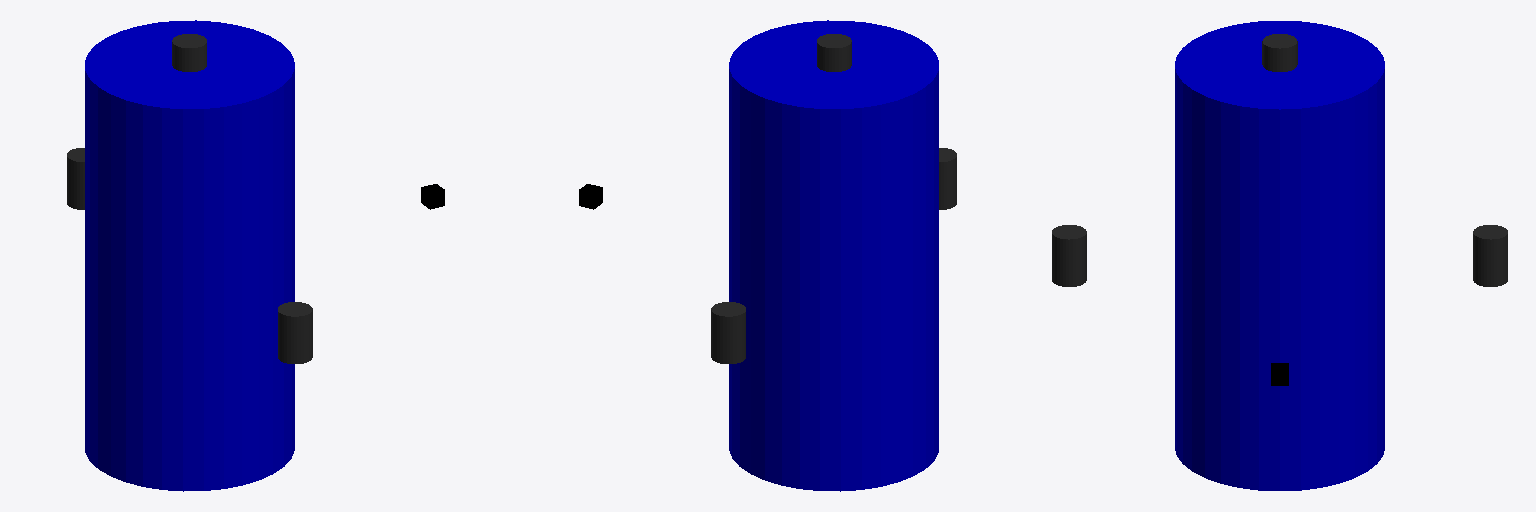
robot.urdf — auv:
<?xml version="1.0" ?>
<!-- =================================================================================== -->
<!-- |    This document was autogenerated by xacro from src/auv_sim/urdf/auv.urdf.xacro | -->
<!-- |    EDITING THIS FILE BY HAND IS NOT RECOMMENDED                                 | -->
<!-- =================================================================================== -->
<robot name="auv">
  <!-- =============
       Base link (hull)
       ============= -->
  <link name="base_link">
    <visual>
      <origin rpy="0 0 0" xyz="0 0 0"/>
      <geometry>
        <cylinder length="1.2" radius="0.3"/>
      </geometry>
      <material name="blue">
        <color rgba="0.0 0.0 0.8 1.0"/>
      </material>
    </visual>
    <collision>
      <origin rpy="0 0 0" xyz="0 0 0"/>
      <geometry>
        <cylinder length="1.2" radius="0.3"/>
      </geometry>
    </collision>
    <!-- Ix = Iy = (1/12)*m*(3r^2 + L^2), Iz = (1/2)*m*r^2 -->
    <inertial>
      <mass value="25.0"/>
      <origin rpy="0 0 0" xyz="0 0 0"/>
      <inertia ixx="3.5624999999999996" ixy="0.0" ixz="0.0" iyy="3.5624999999999996" iyz="0.0" izz="1.125"/>
    </inertial>
  </link>
  <!-- =======
       IMU link
       ======= -->
  <link name="imu_link">
    <visual>
      <origin rpy="0 0 0" xyz="0.0 0.0 0.1"/>
      <geometry>
        <box size="0.05 0.05 0.05"/>
      </geometry>
      <material name="gray">
        <color rgba="0.5 0.5 0.5 1.0"/>
      </material>
    </visual>
    <collision>
      <origin rpy="0 0 0" xyz="0.0 0.0 0.1"/>
      <geometry>
        <box size="0.05 0.05 0.05"/>
      </geometry>
    </collision>
    <inertial>
      <mass value="0.1"/>
      <origin rpy="0 0 0" xyz="0 0 0.1"/>
      <inertia ixx="1e-4" ixy="0" ixz="0" iyy="1e-4" iyz="0" izz="1e-4"/>
    </inertial>
  </link>
  <joint name="imu_joint" type="fixed">
    <parent link="base_link"/>
    <child link="imu_link"/>
    <origin rpy="0 0 0" xyz="0 0 0.1"/>
  </joint>
  <!-- ========
       Camera link
       ======== -->
  <link name="camera_link">
    <visual>
      <origin rpy="0 0 0" xyz="0.4 0 0.0"/>
      <geometry>
        <box size="0.05 0.05 0.05"/>
      </geometry>
      <material name="black">
        <color rgba="0.0 0.0 0.0 1.0"/>
      </material>
    </visual>
    <collision>
      <origin rpy="0 0 0" xyz="0.4 0 0.0"/>
      <geometry>
        <box size="0.05 0.05 0.05"/>
      </geometry>
    </collision>
    <inertial>
      <mass value="0.1"/>
      <origin rpy="0 0 0" xyz="0.4 0 0"/>
      <inertia ixx="1e-4" ixy="0" ixz="0" iyy="1e-4" iyz="0" izz="1e-4"/>
    </inertial>
  </link>
  <joint name="camera_joint" type="fixed">
    <parent link="base_link"/>
    <child link="camera_link"/>
    <origin rpy="0 0 0" xyz="0.4 0 0.0"/>
  </joint>
  <!-- =========
       Depth sensor (downward)
       ========= -->
  <link name="depth_link">
    <visual>
      <origin rpy="0 0 0" xyz="0 0 -0.2"/>
      <geometry>
        <box size="0.05 0.05 0.05"/>
      </geometry>
      <material name="green">
        <color rgba="0.0 0.6 0.0 1.0"/>
      </material>
    </visual>
    <collision>
      <origin rpy="0 0 0" xyz="0 0 -0.2"/>
      <geometry>
        <box size="0.05 0.05 0.05"/>
      </geometry>
    </collision>
    <inertial>
      <mass value="0.1"/>
      <origin rpy="0 0 0" xyz="0 0 -0.2"/>
      <inertia ixx="1e-4" ixy="0" ixz="0" iyy="1e-4" iyz="0" izz="1e-4"/>
    </inertial>
  </link>
  <joint name="depth_joint" type="fixed">
    <parent link="base_link"/>
    <child link="depth_link"/>
    <origin rpy="0 0 0" xyz="0 0 -0.2"/>
  </joint>
  <link name="thruster_left_link">
    <visual>
      <origin rpy="0 0 0" xyz="0.0  0.3 0.0"/>
      <geometry>
        <cylinder length="0.15" radius="0.05"/>
      </geometry>
      <material name="thruster_color">
        <color rgba="0.2 0.2 0.2 1.0"/>
      </material>
    </visual>
    <collision>
      <origin rpy="0 0 0" xyz="0.0  0.3 0.0"/>
      <geometry>
        <cylinder length="0.15" radius="0.05"/>
      </geometry>
    </collision>
    <inertial>
      <mass value="0.5"/>
      <origin rpy="0 0 0" xyz="0.0  0.3 0.0"/>
      <inertia ixx="1e-3" ixy="0" ixz="0" iyy="1e-3" iyz="0" izz="1e-3"/>
    </inertial>
  </link>
  <link name="thruster_right_link">
    <visual>
      <origin rpy="0 0 0" xyz="0.0 -0.3 0.0"/>
      <geometry>
        <cylinder length="0.15" radius="0.05"/>
      </geometry>
      <material name="thruster_color">
        <color rgba="0.2 0.2 0.2 1.0"/>
      </material>
    </visual>
    <collision>
      <origin rpy="0 0 0" xyz="0.0 -0.3 0.0"/>
      <geometry>
        <cylinder length="0.15" radius="0.05"/>
      </geometry>
    </collision>
    <inertial>
      <mass value="0.5"/>
      <origin rpy="0 0 0" xyz="0.0 -0.3 0.0"/>
      <inertia ixx="1e-3" ixy="0" ixz="0" iyy="1e-3" iyz="0" izz="1e-3"/>
    </inertial>
  </link>
  <link name="thruster_vert_link">
    <visual>
      <origin rpy="0 0 0" xyz="0.0  0.0 0.3"/>
      <geometry>
        <cylinder length="0.15" radius="0.05"/>
      </geometry>
      <material name="thruster_color">
        <color rgba="0.2 0.2 0.2 1.0"/>
      </material>
    </visual>
    <collision>
      <origin rpy="0 0 0" xyz="0.0  0.0 0.3"/>
      <geometry>
        <cylinder length="0.15" radius="0.05"/>
      </geometry>
    </collision>
    <inertial>
      <mass value="0.5"/>
      <origin rpy="0 0 0" xyz="0.0  0.0 0.3"/>
      <inertia ixx="1e-3" ixy="0" ixz="0" iyy="1e-3" iyz="0" izz="1e-3"/>
    </inertial>
  </link>
  <joint name="thruster_left_joint" type="fixed">
    <parent link="base_link"/>
    <child link="thruster_left_link"/>
    <origin rpy="0 0 0" xyz="0.0 0.3 0.0"/>
  </joint>
  <joint name="thruster_right_joint" type="fixed">
    <parent link="base_link"/>
    <child link="thruster_right_link"/>
    <origin rpy="0 0 0" xyz="0.0 -0.3 0.0"/>
  </joint>
  <joint name="thruster_vert_joint" type="fixed">
    <parent link="base_link"/>
    <child link="thruster_vert_link"/>
    <origin rpy="0 0 0" xyz="0.0 0.0 0.3"/>
  </joint>
  
  <!-- ======================
       Gazebo-specific plugins
       ====================== -->
  <!-- Hydrodynamics / buoyancy (example for uuv_simulator) -->
  <gazebo>
    <plugin filename="libuuv_gazebo_underwater_plugin.so" name="uuv_underwater_plugin">
      <reference_link>base_link</reference_link>
      <fluid_density>997.0</fluid_density>
      <!-- kg/m^3 -->
      <use_linear_damping>true</use_linear_damping>
      <use_quadratic_damping>true</use_quadratic_damping>
    </plugin>
  </gazebo>
  <!-- IMU plugin -->
  <gazebo reference="imu_link">
    <sensor name="imu_sensor" type="imu">
      <always_on>true</always_on>
      <update_rate>50.0</update_rate>
      <visualize>false</visualize>
      <topic>/imu</topic>
      <plugin filename="libgazebo_ros_imu.so" name="imu_plugin"/>
    </sensor>
  </gazebo>
  <!-- Camera plugin -->
  <gazebo reference="camera_link">
    <sensor name="front_camera" type="camera">
      <always_on>true</always_on>
      <update_rate>15.0</update_rate>
      <visualize>false</visualize>
      <camera>
        <horizontal_fov>1.047</horizontal_fov>
        <!-- ~60 deg -->
        <image>
          <width>640</width>
          <height>480</height>
          <format>R8G8B8</format>
        </image>
        <clip>
          <near>0.1</near>
          <far>20.0</far>
        </clip>
      </camera>
      <plugin filename="libgazebo_ros_camera.so" name="camera_plugin">
        <always_on>true</always_on>
        <update_rate>15.0</update_rate>
        <camera_name>front_camera</camera_name>
        <image_topic_name>/camera/image_raw</image_topic_name>
        <frame_name>camera_link</frame_name>
      </plugin>
    </sensor>
  </gazebo>
  <!-- Depth / range sensor (simple ray-based) -->
  <gazebo reference="depth_link">
    <sensor name="depth_sensor" type="ray">
      <always_on>true</always_on>
      <update_rate>10.0</update_rate>
      <ray>
        <scan>
          <horizontal>
            <samples>1</samples>
            <resolution>1</resolution>
            <min_angle>0.0</min_angle>
            <max_angle>0.0</max_angle>
          </horizontal>
        </scan>
        <range>
          <min>0.0</min>
          <max>50.0</max>
          <resolution>0.01</resolution>
        </range>
      </ray>
      <plugin filename="libgazebo_ros_ray_sensor.so" name="depth_plugin">
        <output_type>sensor_msgs/Range</output_type>
        <frame_name>depth_link</frame_name>
        <topic_name>/depth</topic_name>
      </plugin>
    </sensor>
  </gazebo>
  <!-- Thruster plugins (example topics; adjust plugin filenames to your system) -->
  <gazebo reference="thruster_left_link">
    <plugin filename="libuuv_gazebo_thruster_plugin.so" name="left_thruster_plugin">
      <command_topic>/thruster_left</command_topic>
      <thrust_force>0.0</thrust_force>
    </plugin>
  </gazebo>
  <gazebo reference="thruster_right_link">
    <plugin filename="libuuv_gazebo_thruster_plugin.so" name="right_thruster_plugin">
      <command_topic>/thruster_right</command_topic>
      <thrust_force>0.0</thrust_force>
    </plugin>
  </gazebo>
  <gazebo reference="thruster_vert_link">
    <plugin filename="libuuv_gazebo_thruster_plugin.so" name="vert_thruster_plugin">
      <command_topic>/thruster_vertical</command_topic>
      <thrust_force>0.0</thrust_force>
    </plugin>
  </gazebo>
</robot>

--- Render facts (derived) ---
3 views of the same robot in one strip: view 1: azimuth 30°, elevation 25°; view 2: azimuth 150°, elevation 25°; view 3: azimuth 270°, elevation 25° (orthographic).
Model auv with 7 links and 6 joints (6 fixed), rooted at base_link, posed all joints at 0.
Links seen in each view (by area): view 1: base_link, thruster_right_link, thruster_vert_link, thruster_left_link; view 2: base_link, thruster_left_link, thruster_vert_link, thruster_right_link; view 3: base_link, thruster_left_link, thruster_right_link, thruster_vert_link.
Link boxes in pixels (x1=…): base_link: x1=85, y1=20, x2=294, y2=491; thruster_right_link: x1=278, y1=302, x2=312, y2=363; thruster_vert_link: x1=172, y1=34, x2=206, y2=71; thruster_left_link: x1=67, y1=148, x2=84, y2=209; base_link: x1=729, y1=20, x2=938, y2=491; thruster_left_link: x1=711, y1=302, x2=745, y2=363; thruster_vert_link: x1=817, y1=34, x2=851, y2=71; thruster_right_link: x1=939, y1=148, x2=956, y2=209; base_link: x1=1175, y1=21, x2=1384, y2=490; thruster_left_link: x1=1473, y1=225, x2=1507, y2=286; thruster_right_link: x1=1052, y1=225, x2=1086, y2=286; thruster_vert_link: x1=1262, y1=34, x2=1297, y2=71.
Bounding box of the posed robot: 1.12 × 1.3 × 1.27 m (x, y, z).
Geometry: primitives only (box / cylinder / sphere), no mesh files.
